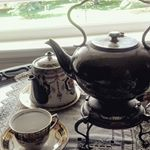cups: (6, 106, 63, 148)
